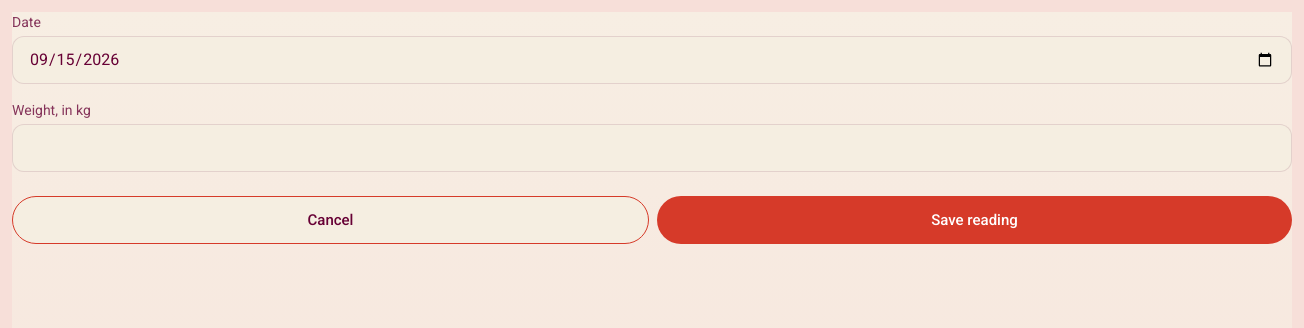
Test: VitalForm › shows a specific error and does not save when the weight is out of range
Type "900" into the number field labelled "Weight, in kg" at (652, 148), box [12,124,1292,172]
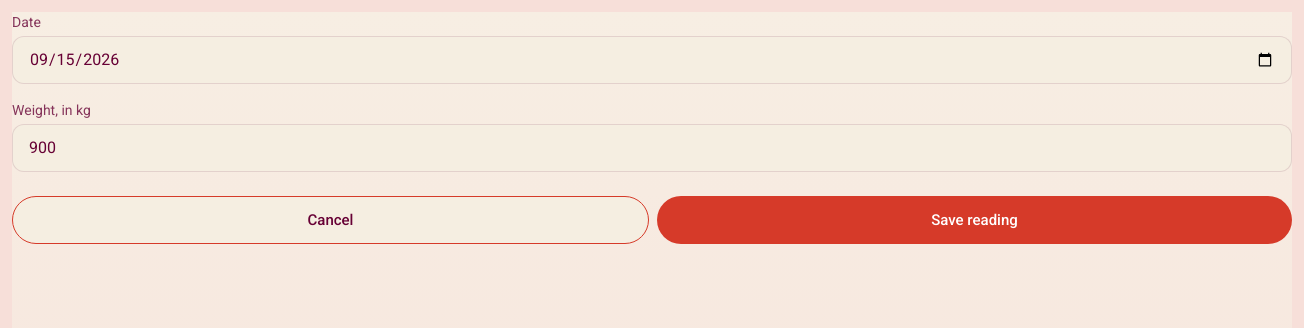
Click the button "Save reading" at (974, 220), box [657,196,1292,244]
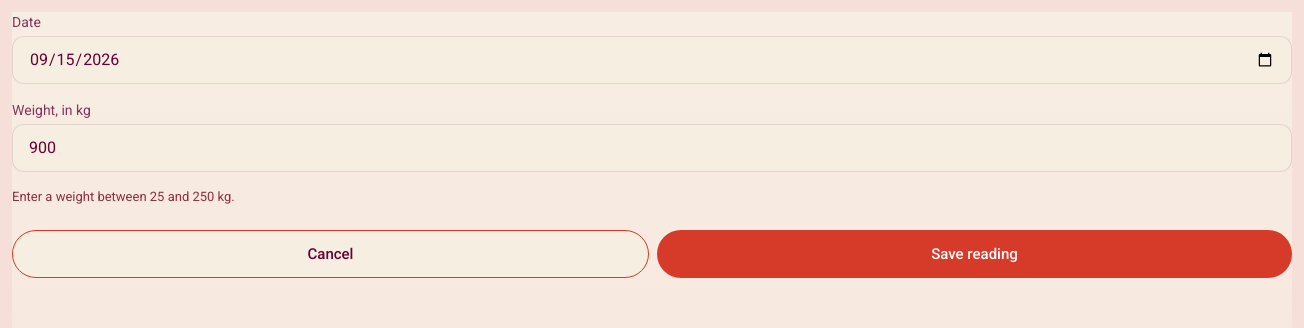
Result: the text "Enter a weight between 25 and 250 kg." is shown at [12,189,235,204]
